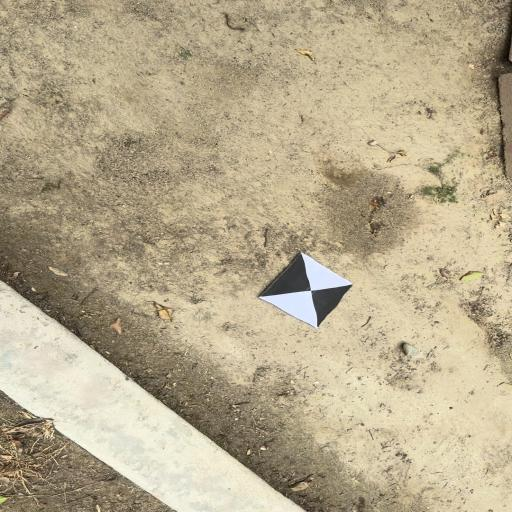target: (258, 252, 353, 329)
